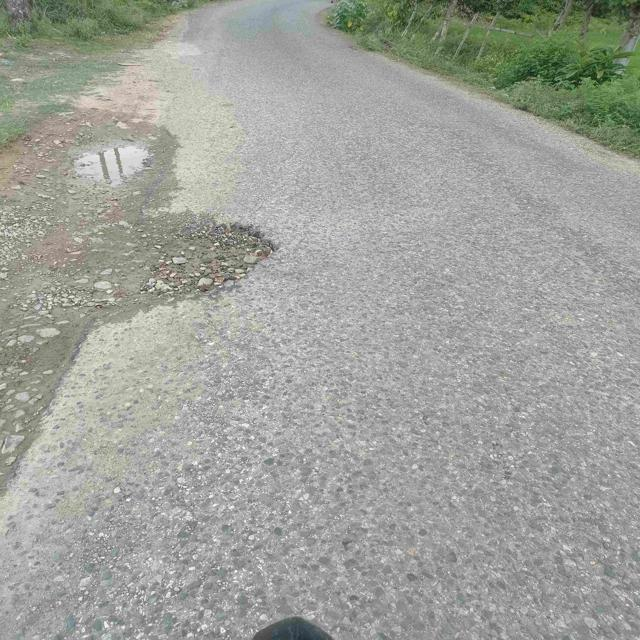Pinggir: (61, 165, 291, 370)
